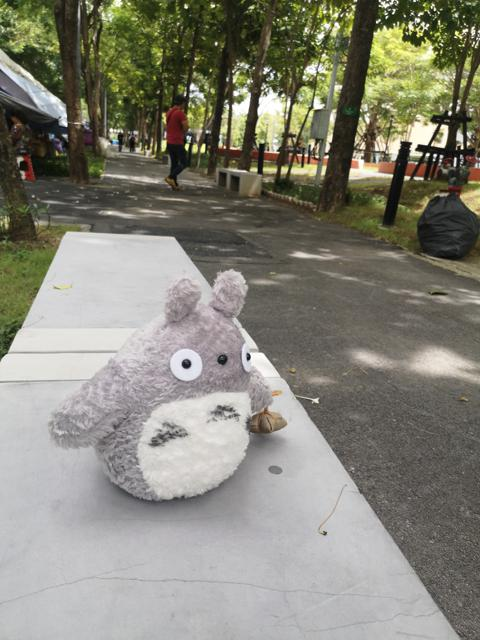totoro: (47, 266, 295, 510)
